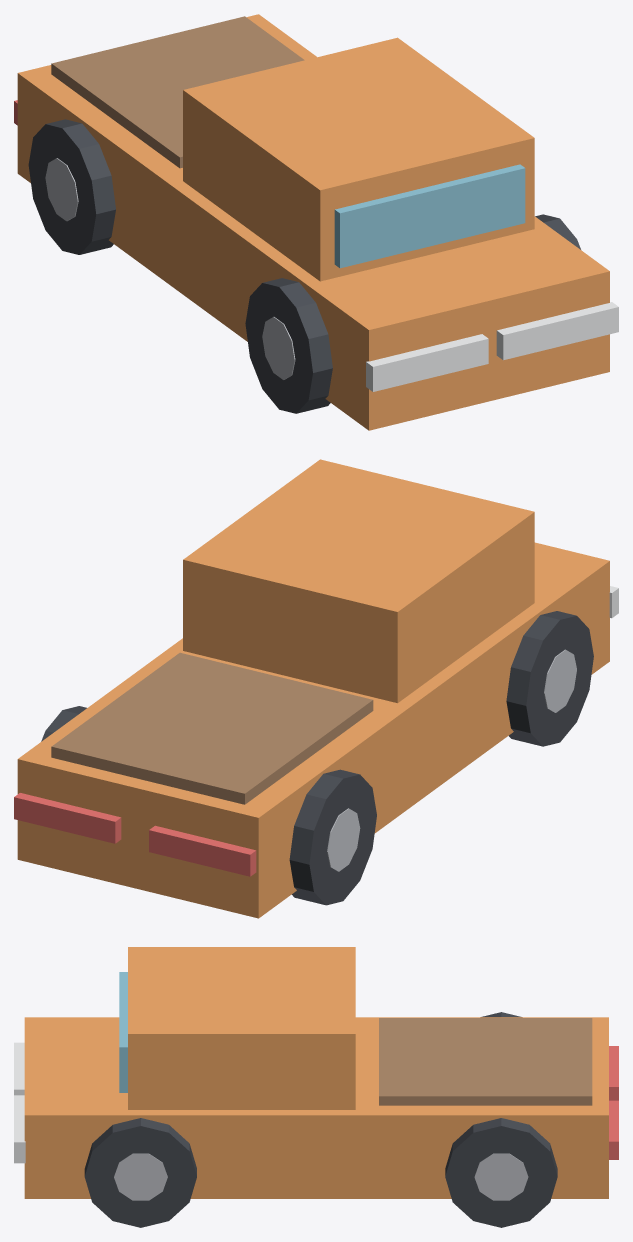
The model's file is traffic_pickup_orange.glb.
3 views of the same model, one above another, from view 1: azimuth 30°, elevation 25°; view 2: azimuth 150°, elevation 25°; view 3: azimuth 270°, elevation 25° (orthographic). The views are drawn at different scales.
Visible parts, largest first — view 1: pickup_body_0, pickup_cab_1, pickup_bed_3, windshield_2, wheel_FL_4, wheel_RL_8, headlight_L_12, headlight_R_13, rim_RL_9, rim_FL_5; view 2: pickup_cab_1, pickup_body_0, pickup_bed_3, wheel_RL_8, wheel_FL_4, taillight_R_15, taillight_L_14, rim_RL_9, rim_FL_5; view 3: pickup_body_0, pickup_cab_1, pickup_bed_3, wheel_RR_10, wheel_FR_6, rim_RR_11, rim_FR_7, windshield_2, headlight_R_13, taillight_R_15, headlight_L_12, taillight_L_14.
Boxes of the visible parts, box(x1,y1,x2,y2) form: pickup_body_0: box(17, 14, 609, 430); pickup_cab_1: box(183, 37, 534, 281); pickup_bed_3: box(51, 16, 304, 168); windshield_2: box(334, 164, 525, 268); wheel_FL_4: box(245, 278, 332, 413); wheel_RL_8: box(28, 119, 115, 254); headlight_L_12: box(366, 334, 488, 391); headlight_R_13: box(496, 302, 618, 360); rim_RL_9: box(45, 158, 78, 221); rim_FL_5: box(262, 317, 295, 379); pickup_cab_1: box(183, 459, 534, 703); pickup_body_0: box(17, 542, 609, 918); pickup_bed_3: box(51, 652, 373, 804); wheel_RL_8: box(289, 769, 376, 905); wheel_FL_4: box(506, 611, 593, 746); taillight_R_15: box(14, 793, 121, 843); taillight_L_14: box(149, 825, 256, 876); rim_RL_9: box(327, 808, 360, 871); rim_FL_5: box(544, 649, 576, 712); pickup_body_0: box(24, 1017, 608, 1198); pickup_cab_1: box(128, 947, 355, 1109); pickup_bed_3: box(379, 1018, 592, 1105); wheel_RR_10: box(445, 1118, 557, 1227); wheel_FR_6: box(84, 1118, 196, 1227); rim_RR_11: box(474, 1153, 528, 1200); rim_FR_7: box(114, 1153, 167, 1200); windshield_2: box(119, 972, 127, 1092); headlight_R_13: box(14, 1095, 25, 1163); taillight_R_15: box(609, 1100, 618, 1159); headlight_L_12: box(14, 1042, 24, 1095); taillight_L_14: box(609, 1046, 618, 1100).
Bounding box in the file's own units: 1.88 × 1.38 × 4.19.
